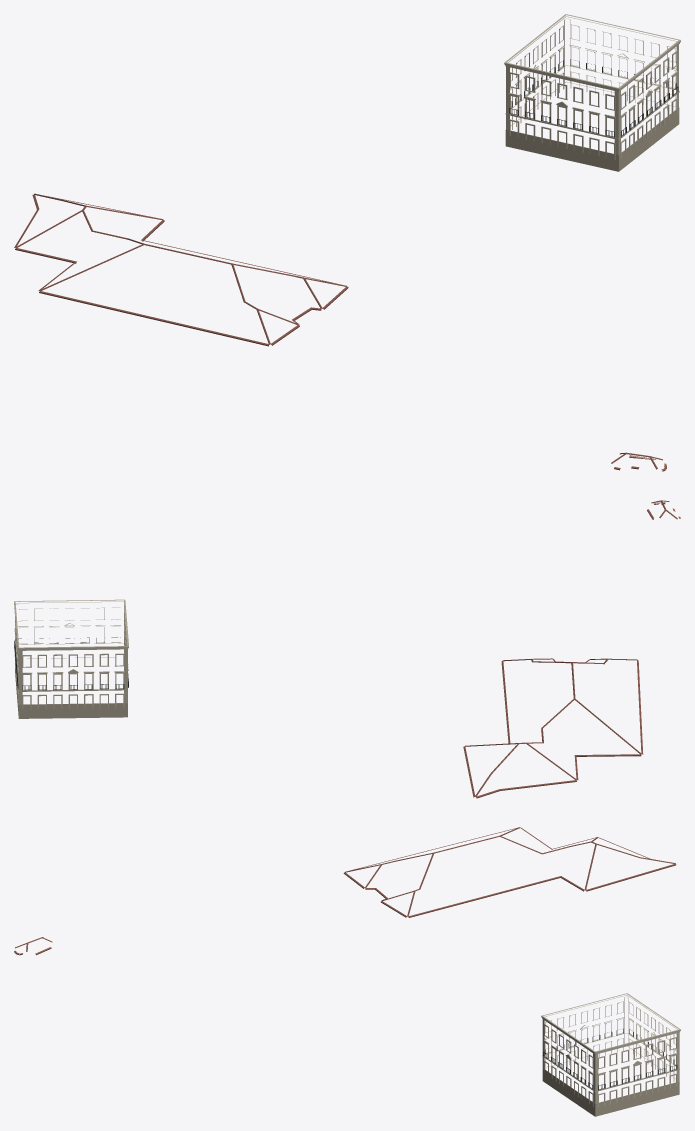
3 views of the same model, one above another, from view 1: azimuth 30°, elevation 25°; view 2: azimuth 150°, elevation 25°; view 3: azimuth 270°, elevation 25° (orthographic). The views are drawn at different scales.
Visible parts, largest first — view 1: detail; view 2: detail; view 3: detail.
Boxes of the visible parts, x1,y1,x2,y2 form: detail: (14, 14, 680, 471); detail: (14, 500, 680, 798); detail: (14, 827, 680, 1116).
Bounding box in the file's own units: 117 × 13.59 × 126.
